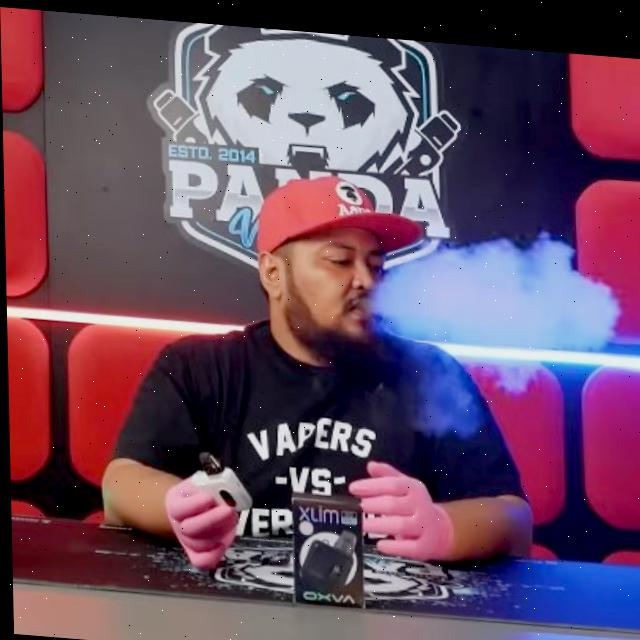vape: (297, 520, 357, 588), (190, 446, 251, 510)
